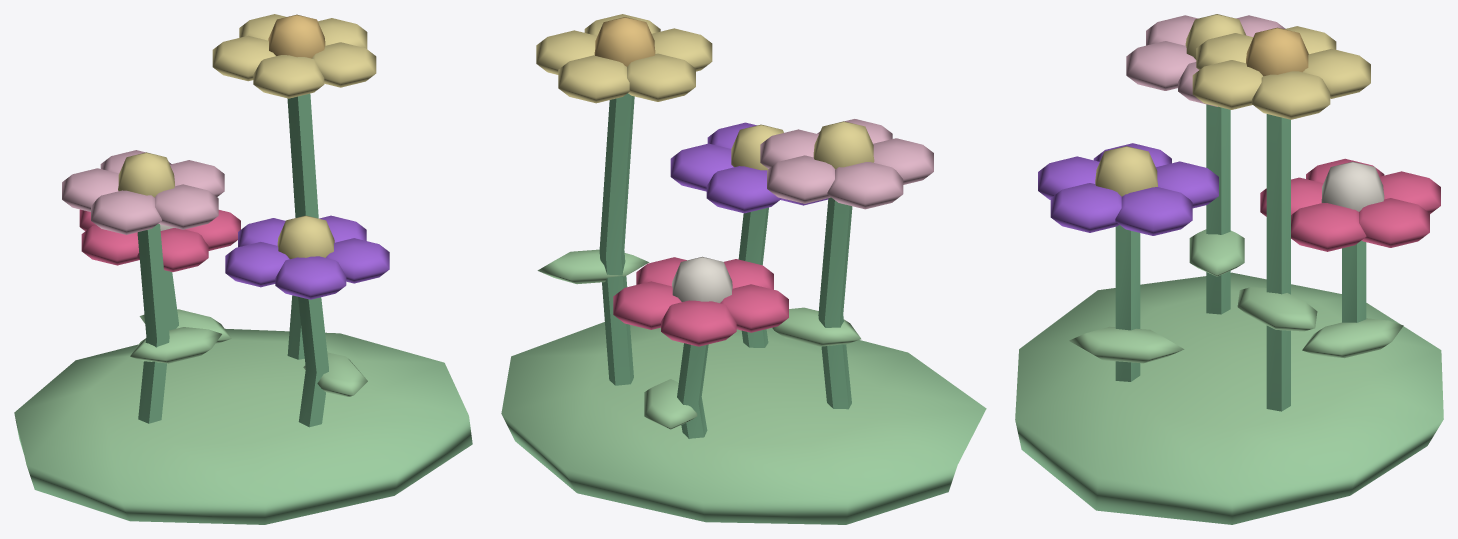
Rendered from s4Flowers.glb.
The picture shows the model from 3 angles, left to right: view 1: azimuth 30°, elevation 25°; view 2: azimuth 150°, elevation 25°; view 3: azimuth 270°, elevation 25°; orthographic projection. The views are drawn at different scales.
Parts seen in each view (by area): view 1: Body; view 2: Body; view 3: Body.
Boxes of the visible parts, left/top/right/bottom form: Body: left=14, top=14, right=472, bottom=524; Body: left=501, top=14, right=986, bottom=524; Body: left=1015, top=14, right=1443, bottom=524.
Size of the model in its own units: 3.53 by 3.37 by 2.84.
